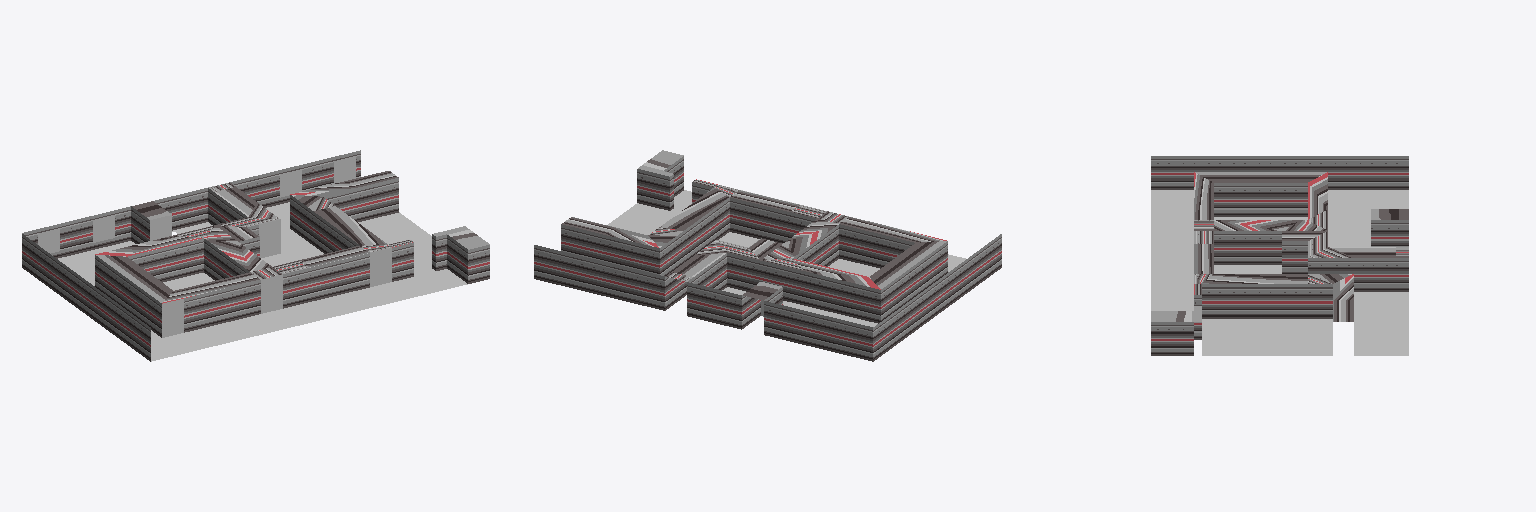
3 views of the same model, side by side, from view 1: azimuth 30°, elevation 25°; view 2: azimuth 150°, elevation 25°; view 3: azimuth 270°, elevation 25° (orthographic).
Visible parts, largest first — view 1: m_dun2603_00_00c; view 2: m_dun2603_00_00c; view 3: m_dun2603_00_00c.
Boxes of the visible parts, <box> form: m_dun2603_00_00c: <box>22,150,489,361</box>; m_dun2603_00_00c: <box>534,150,1001,361</box>; m_dun2603_00_00c: <box>1151,156,1408,355</box>.
Size of the model in its own units: 496 by 48 by 326.
4 materials, 1 textured.